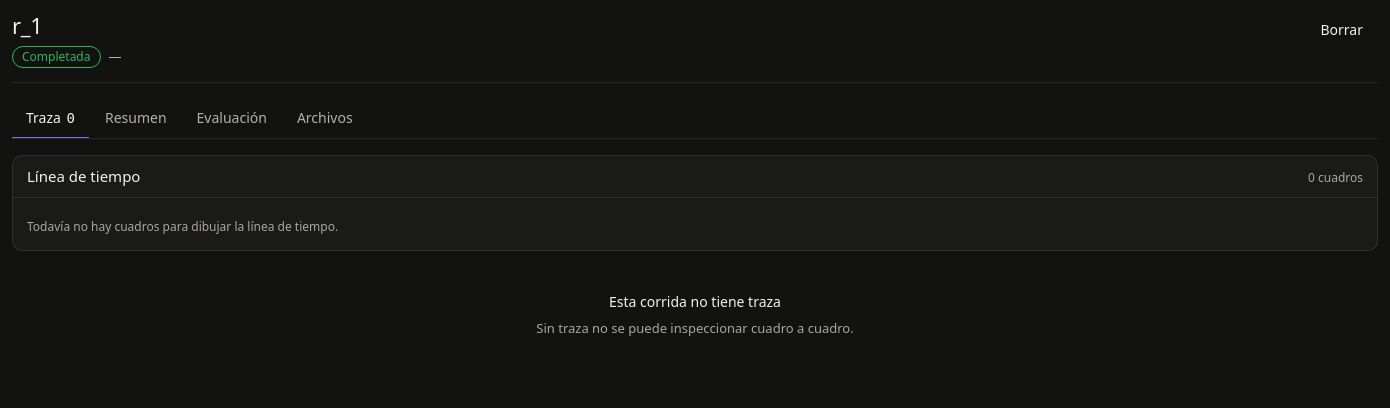
Test: RunDetailPage › borrado parcial muestra el detalle de los planos que fallaron y persiste (no navega)
This screenshot has width=1390, height=408.
Click the button "Borrar".
click(1342, 30)  # box [1306, 12, 1378, 48]
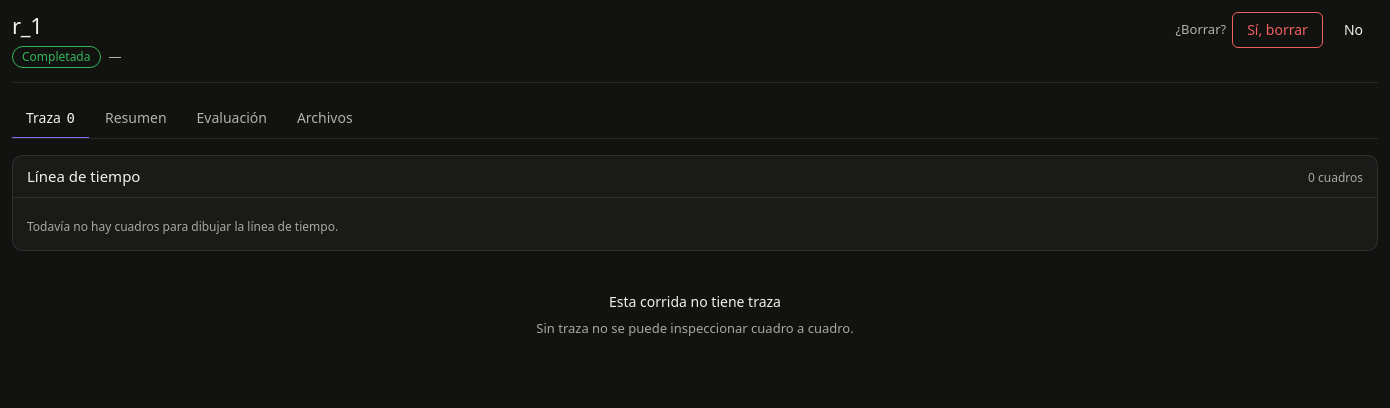
Click the button "Sí, borrar".
click(1278, 30)  # box [1232, 12, 1323, 48]
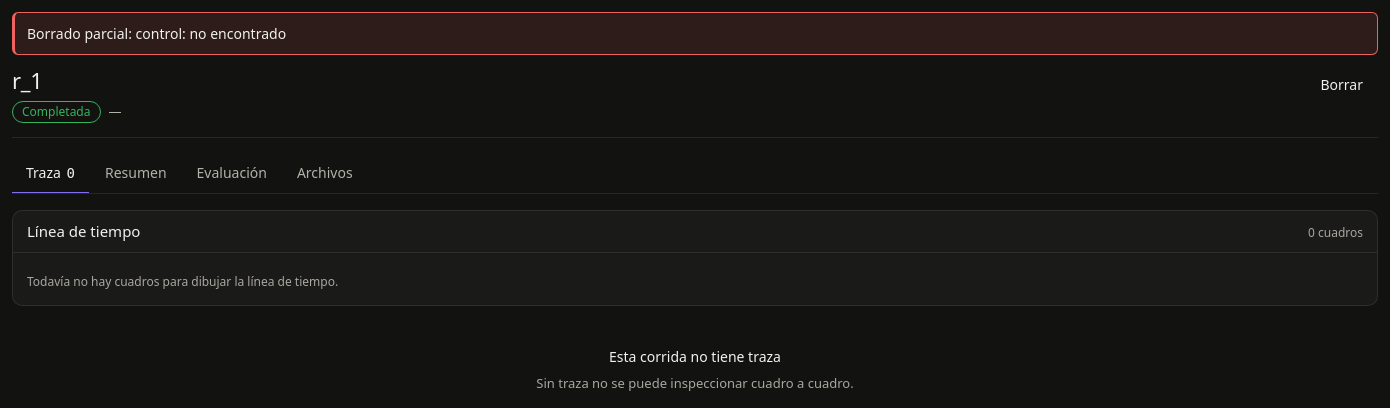
Expected: the button "Borrar" is shown, [1306, 67, 1378, 103]
Expected: the message shows "control", [27, 24, 286, 43]
